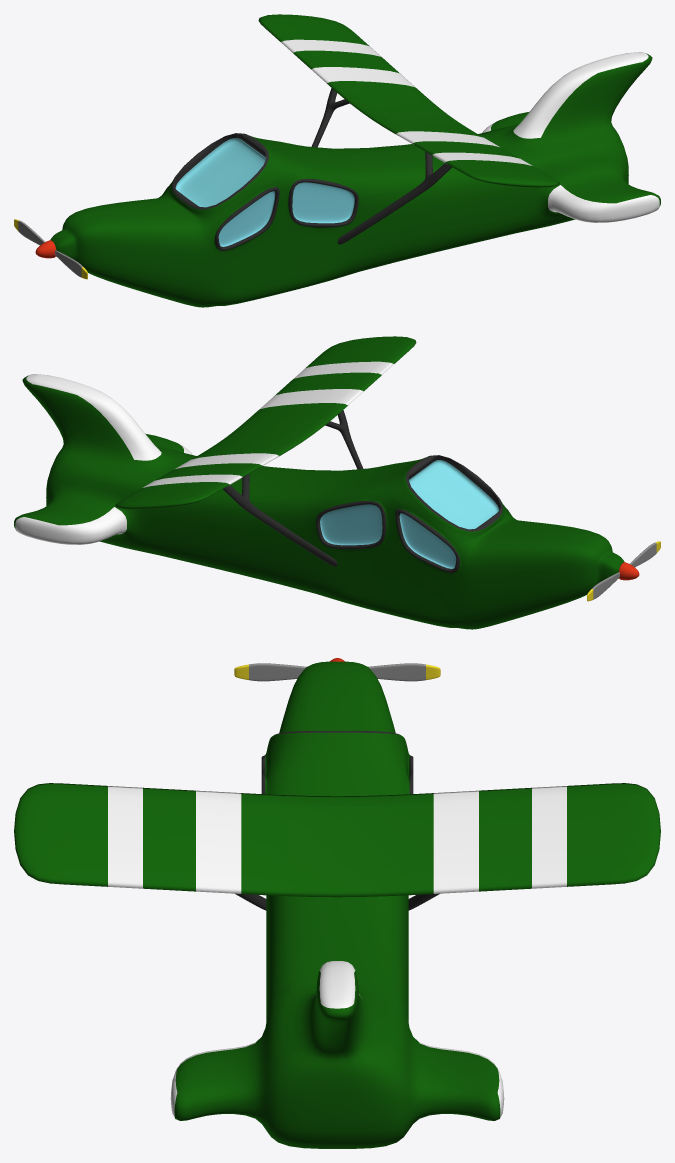
Rendered from styloo-planeazer-001.glb.
3 renders of one model, top to bottom at view 1: azimuth 30°, elevation 25°; view 2: azimuth 150°, elevation 25°; view 3: azimuth 270°, elevation 25°, orthographic. The views are drawn at different scales.
Parts seen in each view (by area): view 1: Cube.002, Cube.003; view 2: Cube.002, Cube.003; view 3: Cube.002, Cube.003.
Boxes of the visible parts, x1,y1,x2,y2 form: Cube.002: [50, 14, 660, 307]; Cube.003: [14, 219, 87, 279]; Cube.002: [14, 336, 624, 629]; Cube.003: [587, 541, 660, 601]; Cube.002: [14, 661, 660, 1148]; Cube.003: [234, 658, 440, 681].
Size of the model in its own units: 8.3 by 2.02 by 5.42.
1 material, 1 textured.
